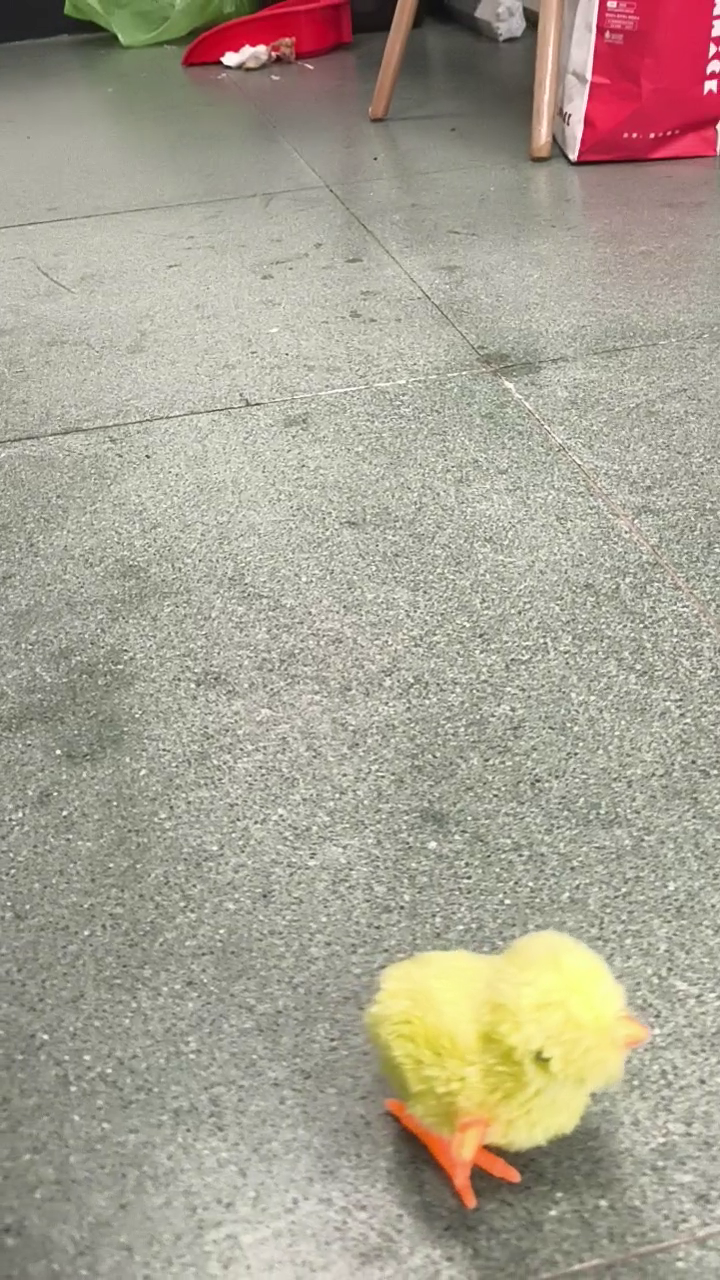yellow chicken: (361, 923, 657, 1217)
